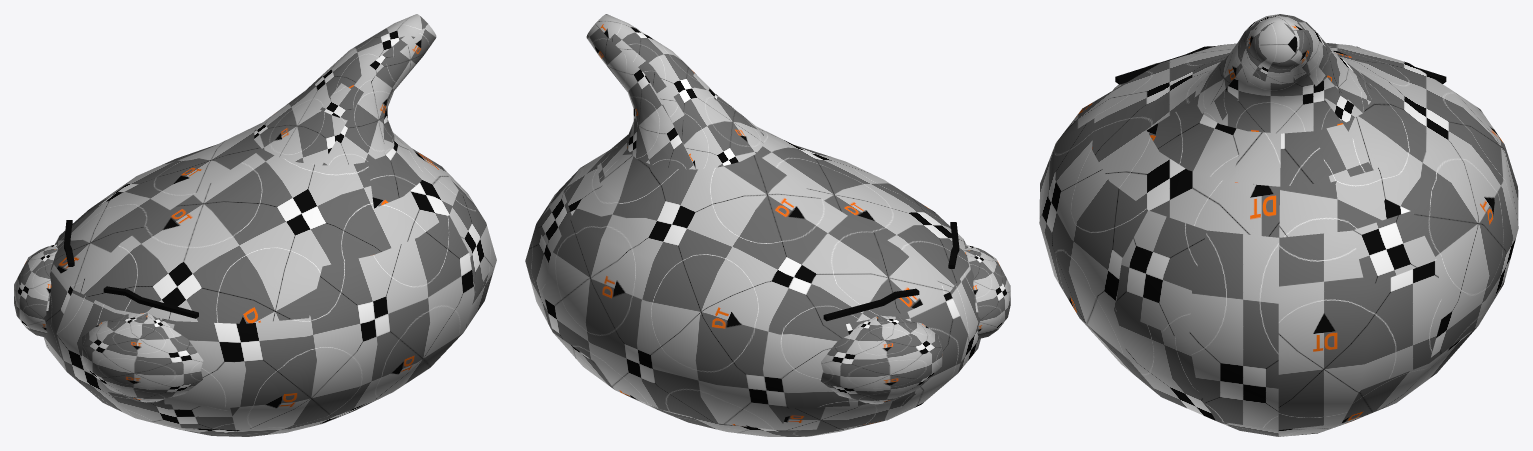
Rendered from blob_saut_touch.FBX.
3 views of the same model, side by side, from view 1: azimuth 30°, elevation 25°; view 2: azimuth 150°, elevation 25°; view 3: azimuth 270°, elevation 25° (orthographic). The views are drawn at different scales.
Parts seen in each view (by area): view 1: Sphere001, Sphere002, Sphere003, Box001; view 2: Sphere001, Sphere003, Sphere002, Box002; view 3: Sphere001.
Boxes of the visible parts, bbox=[...] form: Sphere001: bbox=[43, 14, 496, 436]; Sphere002: bbox=[82, 312, 203, 402]; Sphere003: bbox=[14, 244, 57, 337]; Box001: bbox=[103, 286, 198, 318]; Sphere001: bbox=[525, 14, 980, 436]; Sphere003: bbox=[821, 315, 942, 404]; Sphere002: bbox=[963, 245, 1010, 338]; Box002: bbox=[823, 288, 919, 321]; Sphere001: bbox=[1039, 14, 1518, 436].
Size of the model in its own units: 281 by 226 by 215.
Materials: 3 (2 with a texture image).
